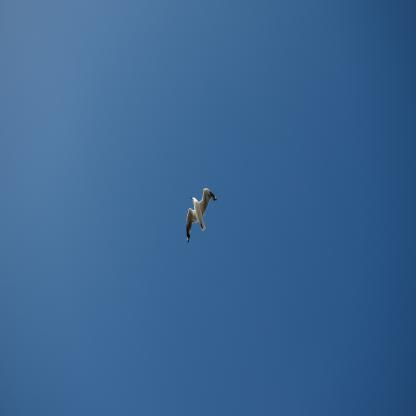bird: (186, 188, 218, 243)
